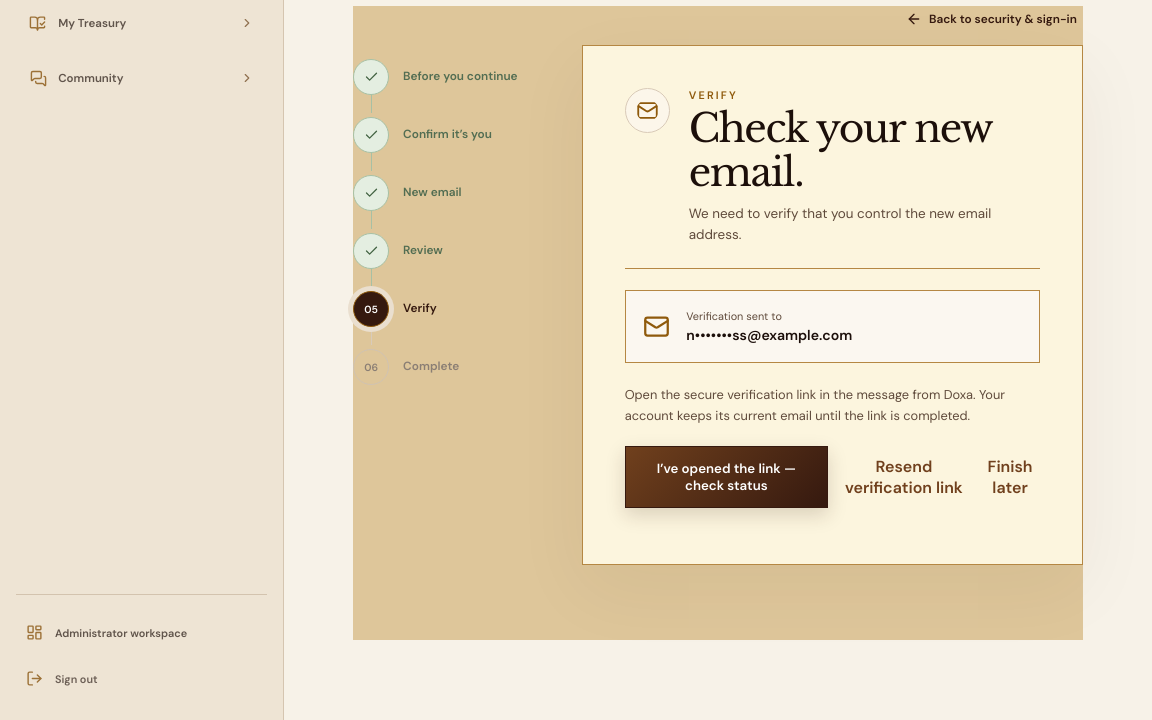
Test: account security centre › keeps the verification step pending when the signed link is not complete
The image size is (1152, 720).
(page scrolled)
Click the button "I’ve opened the link — check status".
click(726, 477)  # box [625, 446, 828, 508]
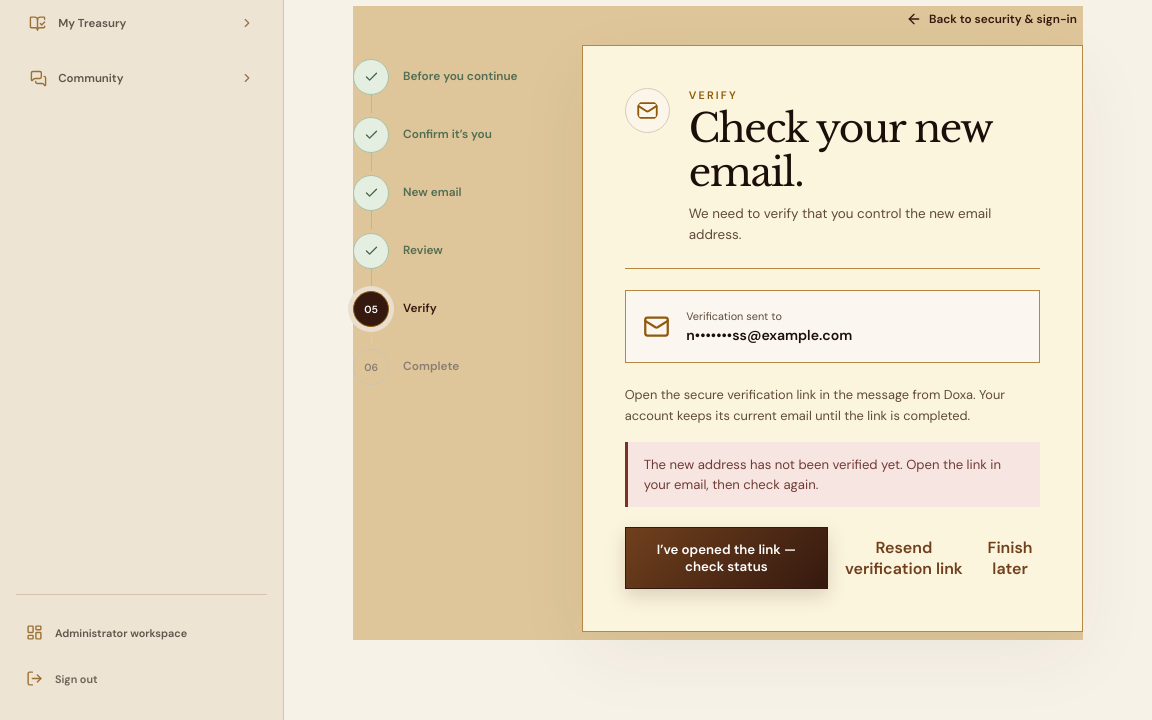
Result: the text "has not been verified yet" is shown at [644, 456, 1001, 493]
